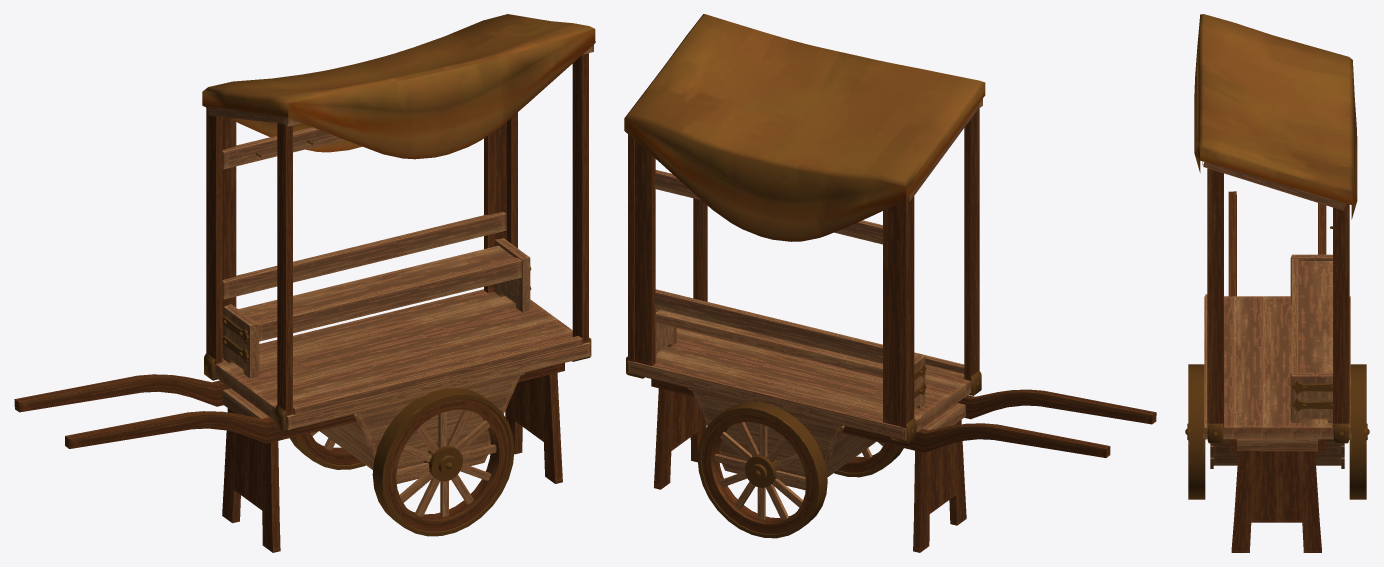
Rendered from market_stall_cart.glb.
The picture shows the model from 3 angles, left to right: view 1: azimuth 30°, elevation 25°; view 2: azimuth 150°, elevation 25°; view 3: azimuth 270°, elevation 25°; orthographic projection. The views are drawn at different scales.
Visible parts, largest first — view 1: Stall_Cart_Empty; view 2: Stall_Cart_Empty; view 3: Stall_Cart_Empty.
Boxes of the visible parts, x1,y1,x2,y2 form: Stall_Cart_Empty: (14, 14, 595, 552); Stall_Cart_Empty: (624, 14, 1156, 552); Stall_Cart_Empty: (1185, 14, 1369, 552).
Bounding box in the file's own units: 3.02 × 2.63 × 1.06.
Materials: 3 (3 with a texture image).
